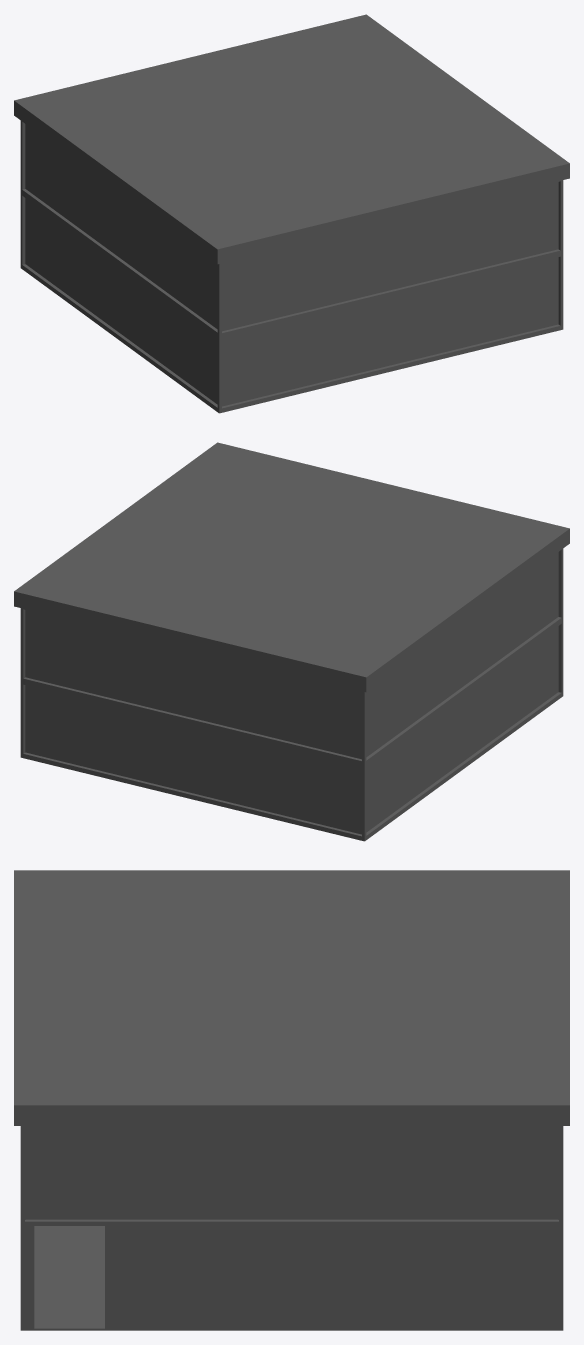
The model's file is building1.gltf.
3 views of the same model, one above another, from view 1: azimuth 30°, elevation 25°; view 2: azimuth 150°, elevation 25°; view 3: azimuth 270°, elevation 25° (orthographic). The views are drawn at different scales.
Parts seen in each view (by area): view 1: building; view 2: building; view 3: building.
Part boxes in pixels (bbox=[...]): building: bbox=[14, 14, 569, 413]; building: bbox=[14, 442, 569, 841]; building: bbox=[14, 870, 569, 1330].
Bounding box in the file's own units: 24.53 × 11.1 × 24.53.
Materials: 1 (1 with a texture image).
